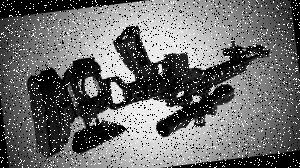sniper: (18, 21, 271, 162)
